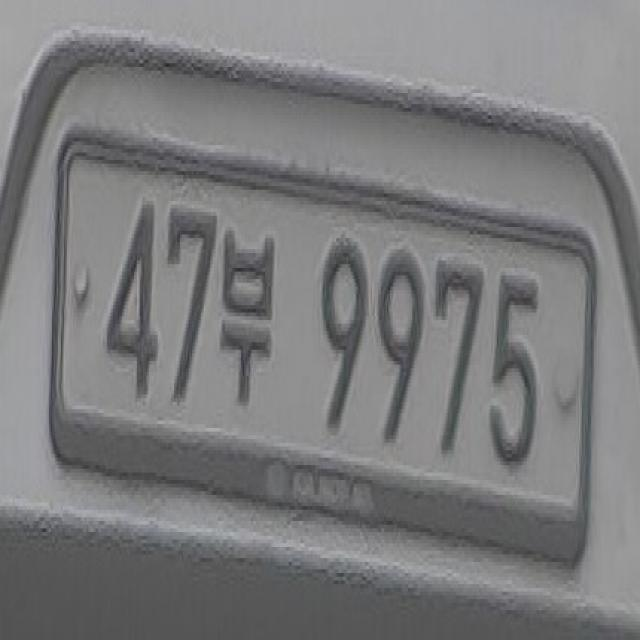4: (104, 194, 162, 430)
5: (492, 264, 542, 476)
7: (165, 196, 218, 440), (433, 248, 481, 476)
9: (314, 228, 370, 461), (374, 232, 428, 466)
bu: (220, 216, 279, 426)
license_plate: (44, 109, 617, 606)
